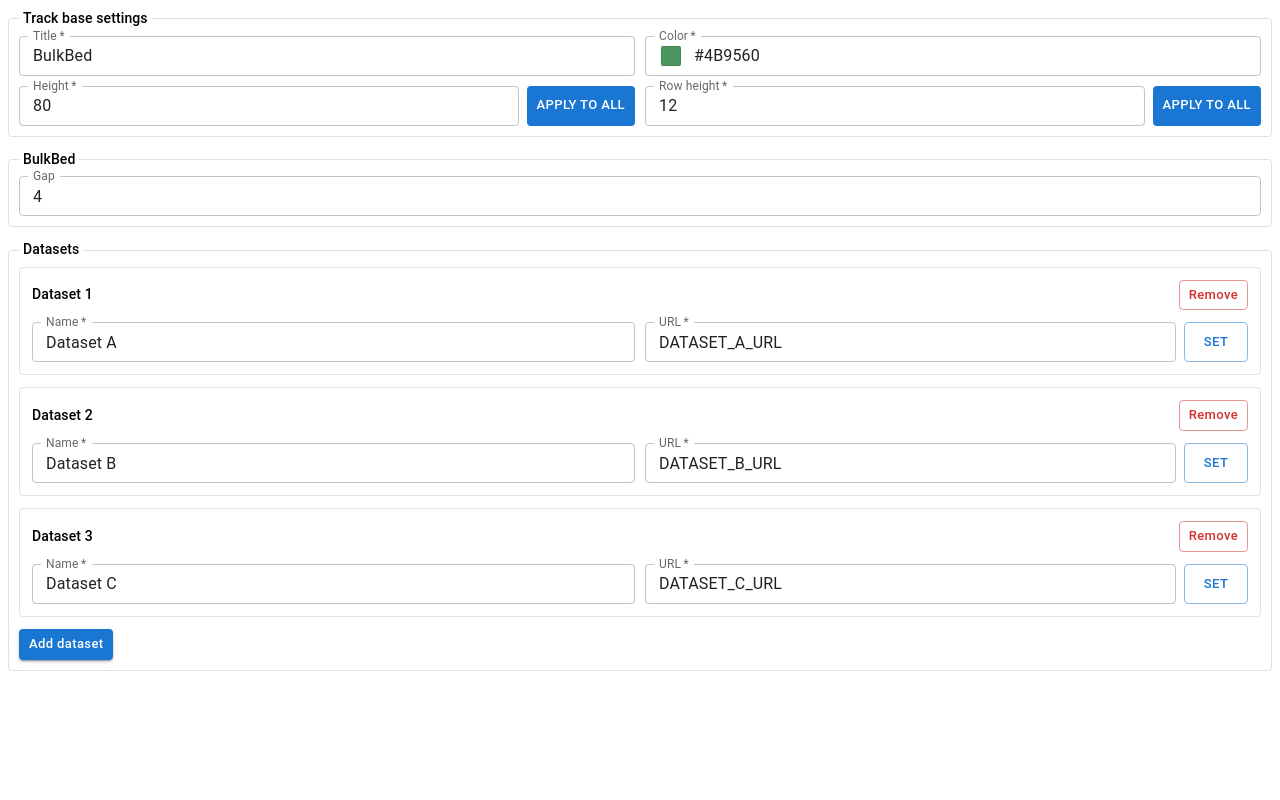
Test: BulkBed settings › adds and removes datasets while retaining stable rows and one required dataset
Click the 2nd button "Remove": coordinates (1213, 416) left=1179, top=400, right=1248, bottom=431
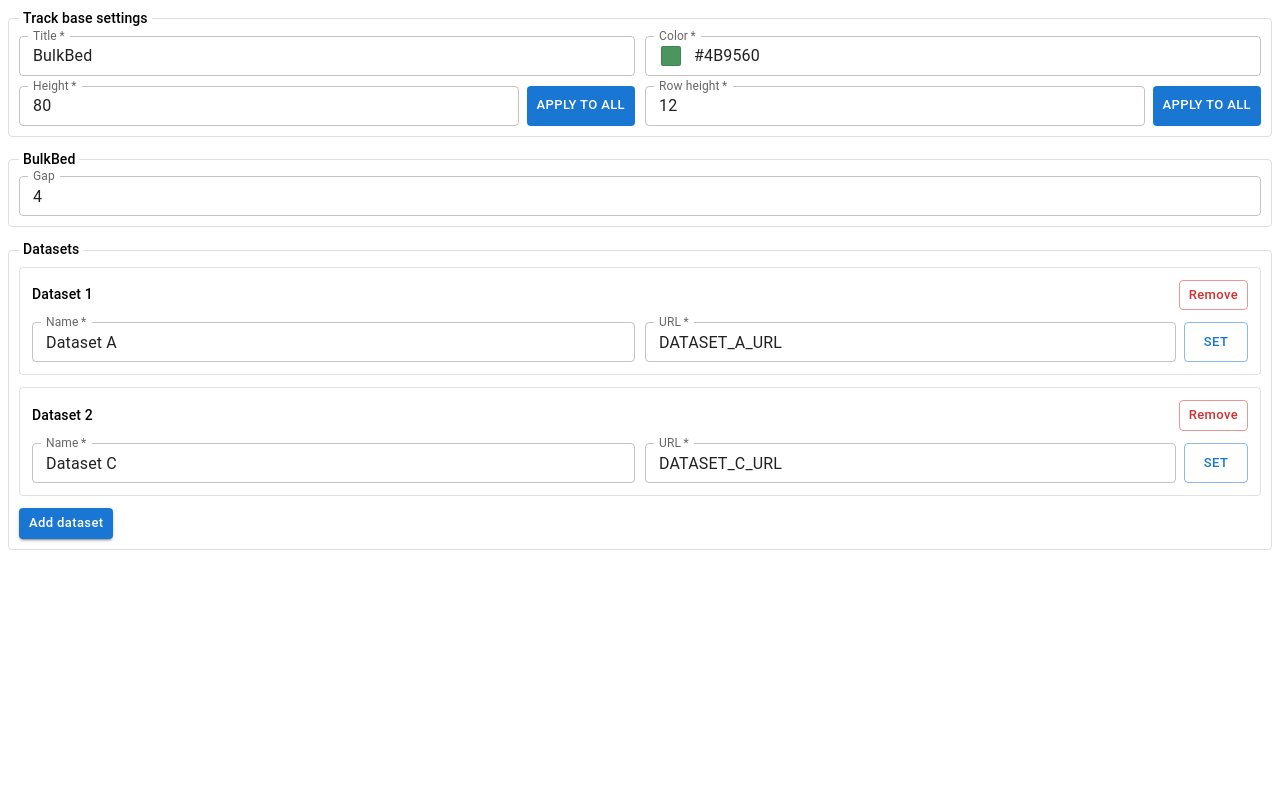
Click the button "Add dataset": coordinates (66, 524) left=19, top=508, right=113, bottom=539
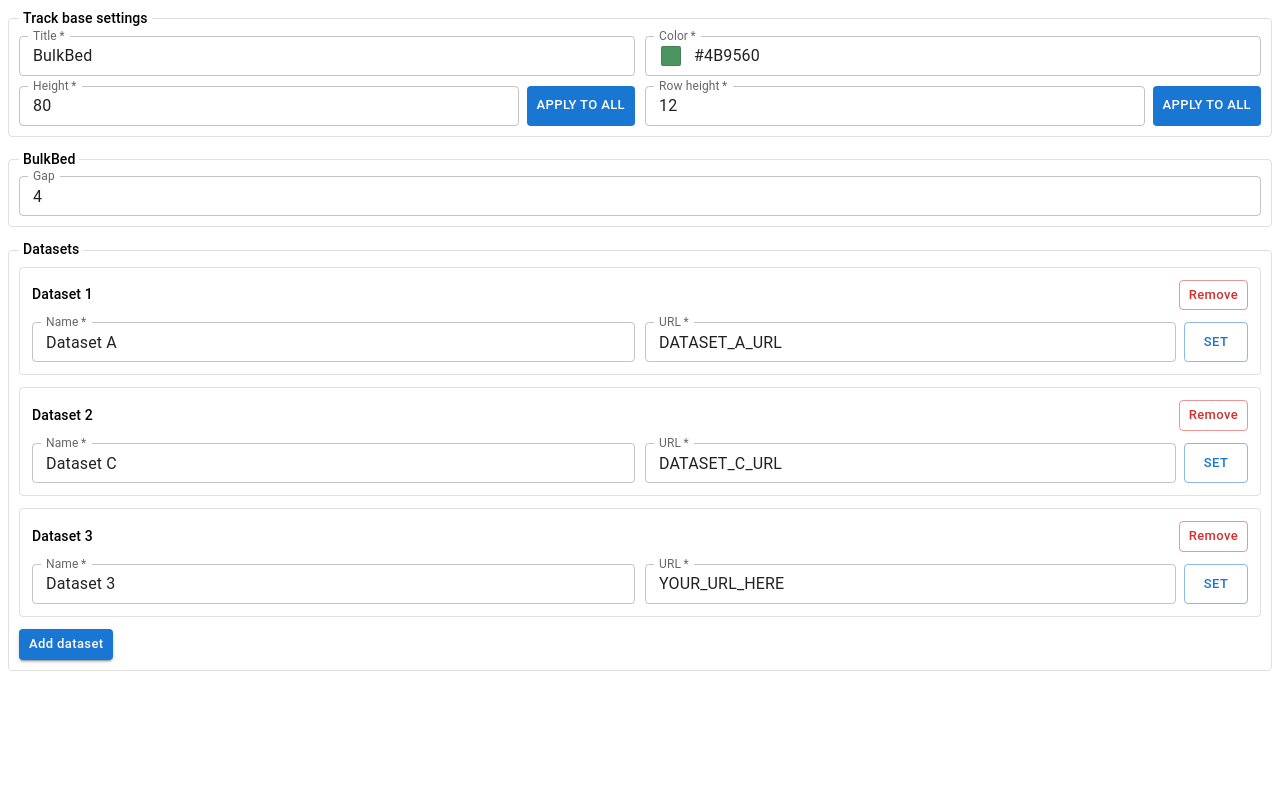
expect the 3rd field labelled "URL *" holds "YOUR_URL_HERE": met, box left=645, top=564, right=1176, bottom=604
Click the 3rd button "Remove": coordinates (1213, 537) left=1179, top=521, right=1248, bottom=552
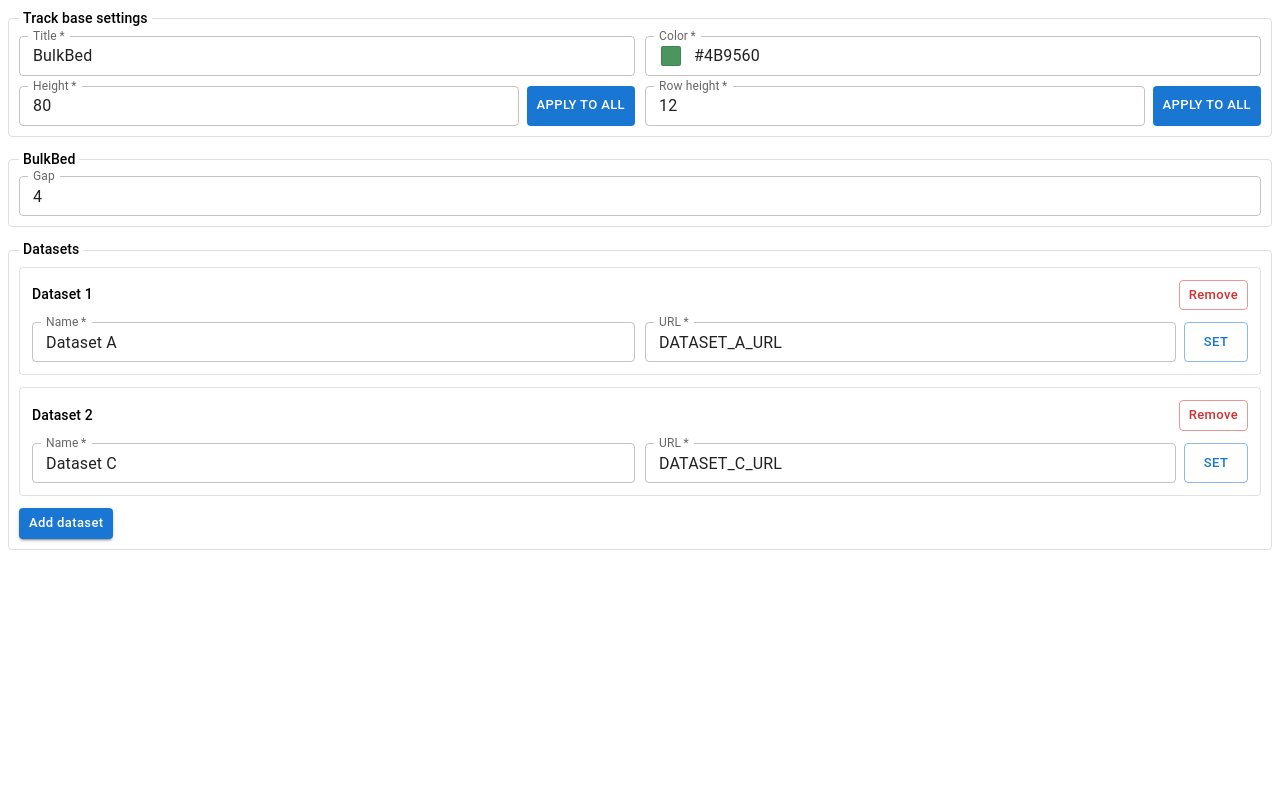
Click the 2nd button "Remove": coordinates (1213, 416) left=1179, top=400, right=1248, bottom=431
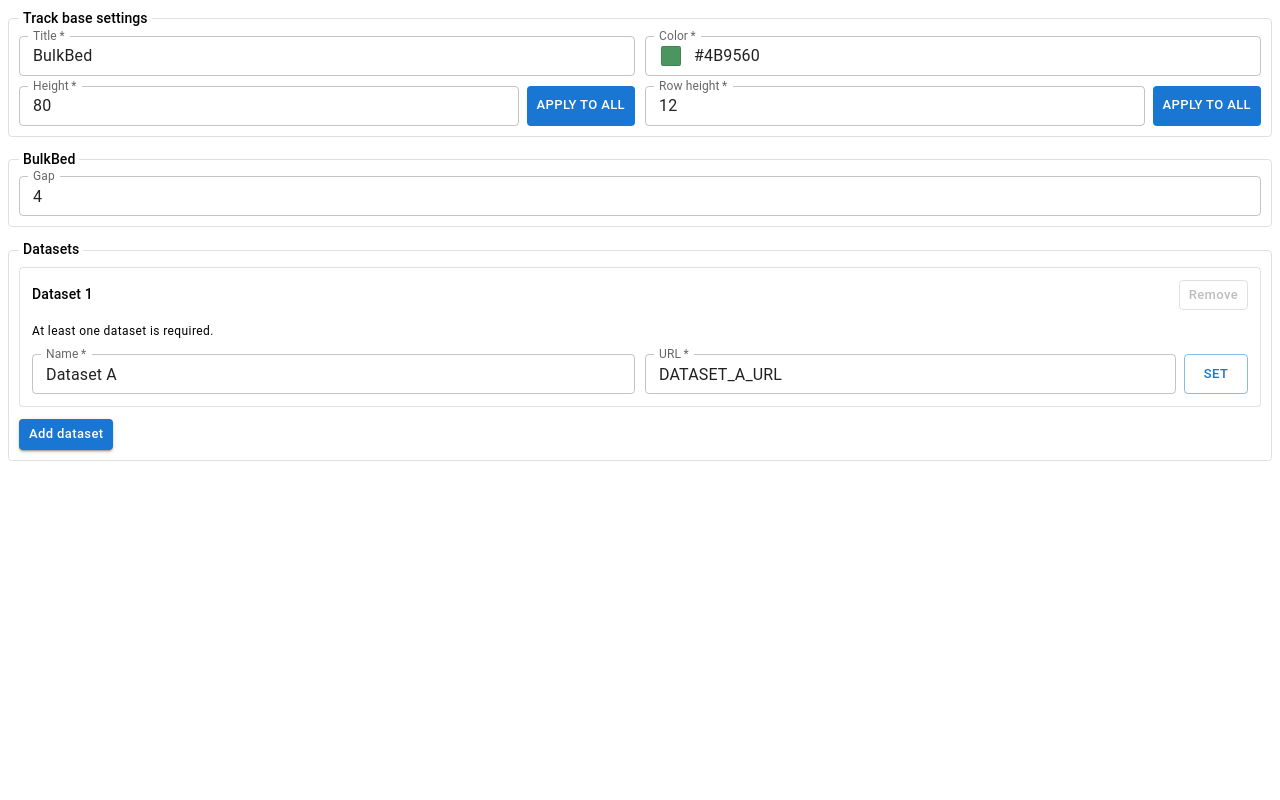
expect the button "Remove" is disabled: met, box left=1179, top=280, right=1248, bottom=310
